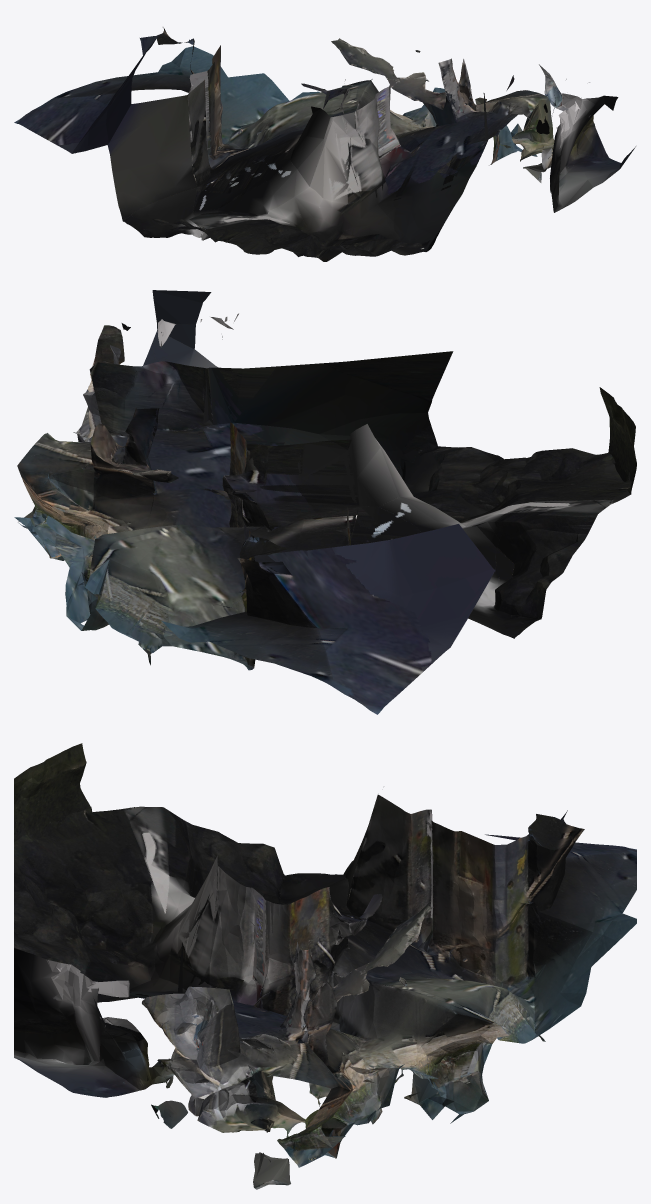
3 views of the same model, one above another, from view 1: azimuth 30°, elevation 25°; view 2: azimuth 150°, elevation 25°; view 3: azimuth 270°, elevation 25° (orthographic). The views are drawn at different scales.
Size of the model in its own units: 4.18 by 1.36 by 4.18.
Materials: 4 (4 with a texture image).
